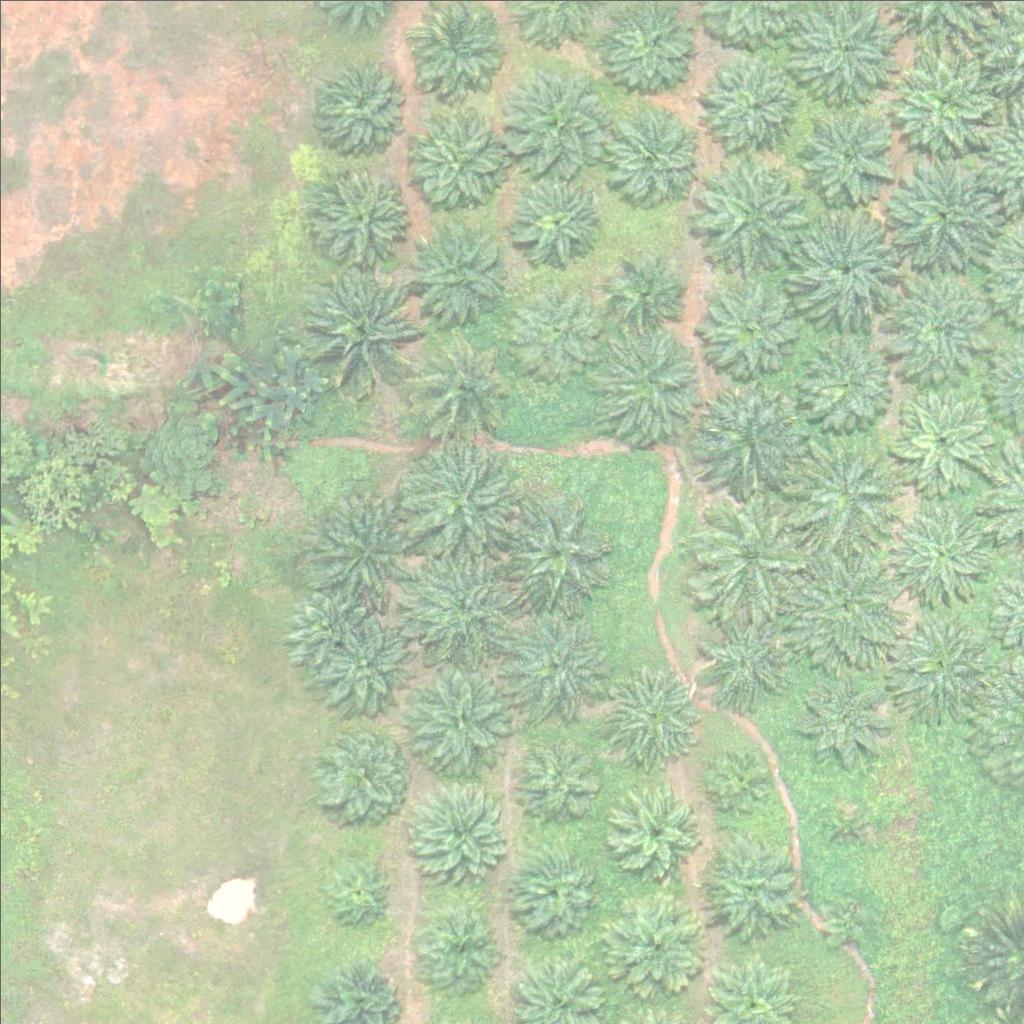Kelapa_Sawit: (696, 499, 809, 613), (592, 325, 705, 439), (400, 104, 513, 218), (502, 65, 615, 179), (400, 657, 513, 770), (878, 272, 991, 385), (886, 162, 999, 275), (407, 546, 520, 659), (305, 484, 418, 597), (884, 41, 997, 154), (888, 614, 1000, 728), (884, 499, 996, 613), (789, 547, 901, 661), (792, 439, 904, 553), (692, 386, 804, 500), (695, 271, 807, 385), (303, 269, 415, 382), (787, 660, 899, 773), (791, 219, 903, 332), (693, 154, 805, 267), (499, 495, 611, 608), (403, 442, 515, 555), (398, 211, 510, 324), (608, 891, 708, 992), (405, 333, 505, 434), (406, 784, 506, 885), (505, 610, 605, 711), (605, 783, 705, 884), (603, 665, 703, 766), (696, 834, 796, 935), (892, 393, 992, 494), (797, 102, 897, 203), (697, 606, 797, 707), (311, 167, 411, 268), (700, 54, 800, 155), (796, 337, 896, 437), (607, 104, 707, 204), (505, 281, 605, 381), (508, 169, 608, 269), (309, 54, 409, 154), (513, 732, 601, 821), (507, 848, 595, 936), (315, 727, 402, 815), (413, 902, 500, 990), (322, 620, 409, 708), (287, 580, 374, 668), (609, 259, 684, 335), (323, 859, 386, 922), (706, 749, 769, 812), (826, 900, 863, 938), (830, 809, 867, 847)
